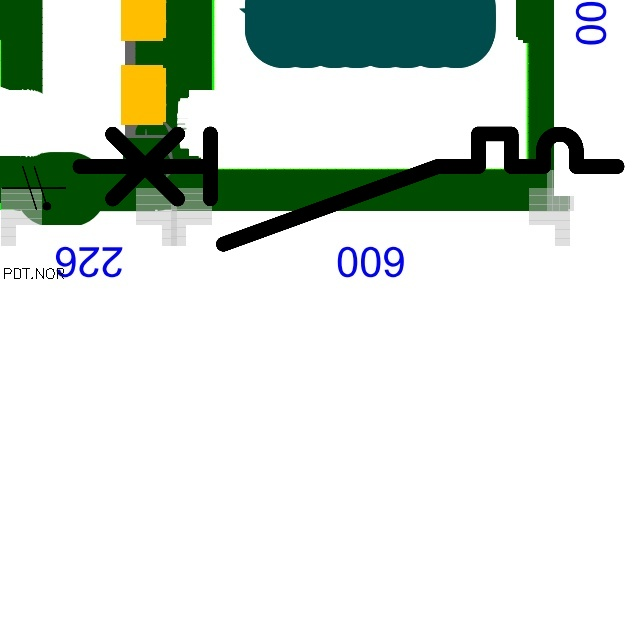interruptor_termomagnetico: (65, 120, 630, 258)
